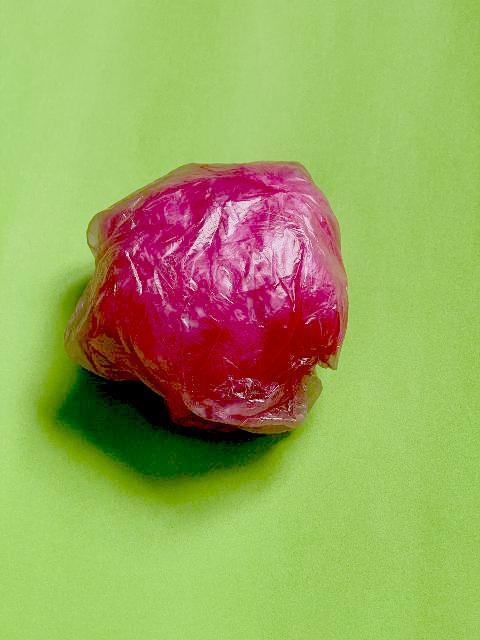plasticbag: (62, 158, 350, 438)
